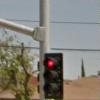Traffic light: (38, 47, 73, 100)
